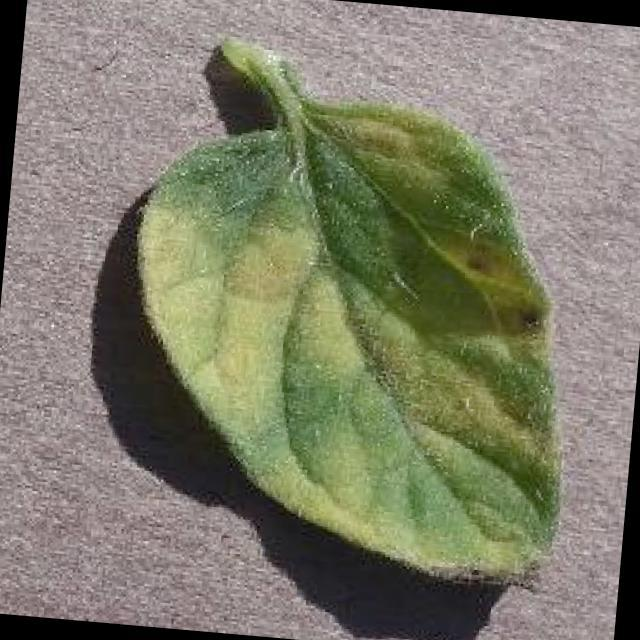Tomato mold leaf: (113, 86, 591, 586)
